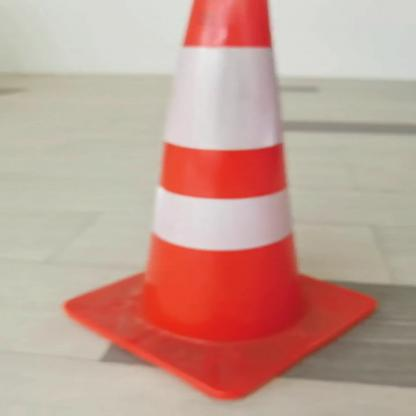cone: (36, 0, 388, 412)
